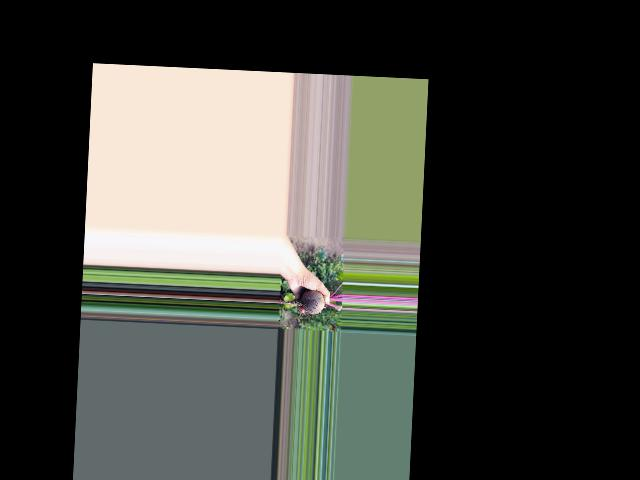beet: (277, 278, 343, 325)
